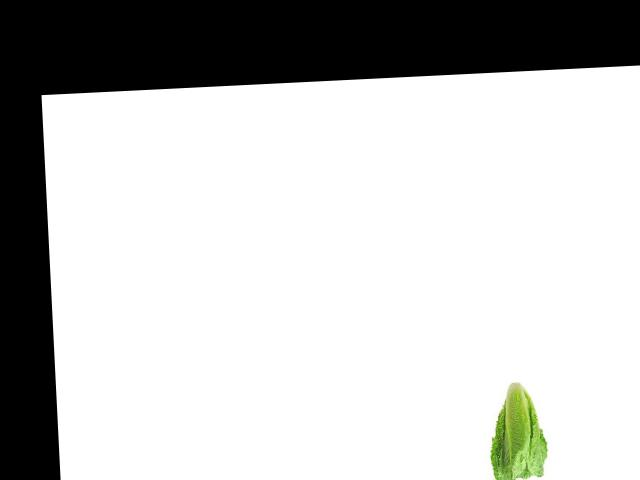lettuce: (482, 379, 552, 480)
